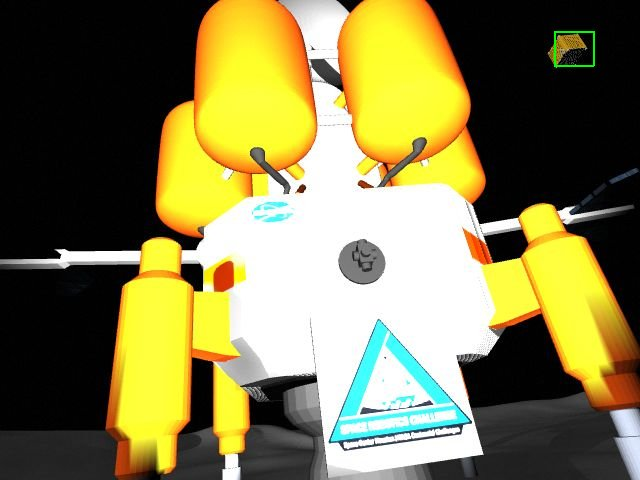basemarker: (328, 319, 473, 451)
